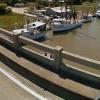Boat: (48, 10, 83, 33)
